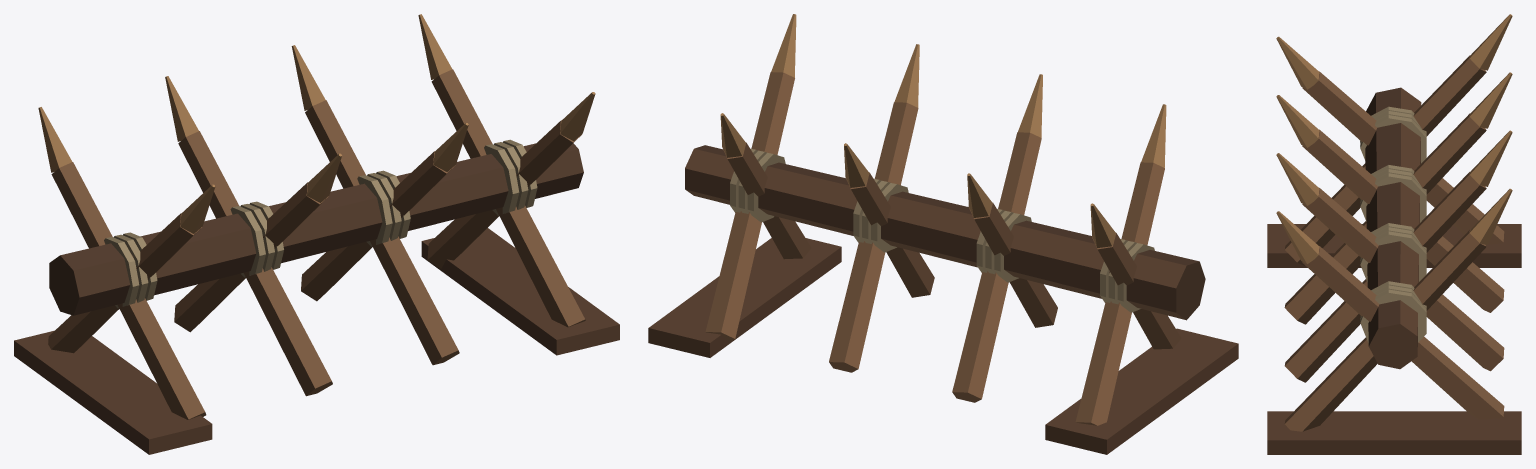
File: crossed-stakes.glb
3 renders of one model, left to right at view 1: azimuth 30°, elevation 25°; view 2: azimuth 150°, elevation 25°; view 3: azimuth 270°, elevation 25°, orthographic. The views are drawn at different scales.
Visible parts, largest first — view 1: Crossed stake barrier; view 2: Crossed stake barrier; view 3: Crossed stake barrier.
Part boxes in pixels (bbox=[...]): Crossed stake barrier: bbox=[14, 14, 619, 454]; Crossed stake barrier: bbox=[648, 14, 1238, 454]; Crossed stake barrier: bbox=[1267, 14, 1521, 454].
Size of the model in its own units: 1.84 by 0.8632 by 0.85.
